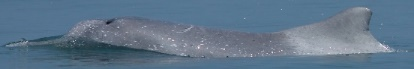fin: (46, 3, 399, 63)
